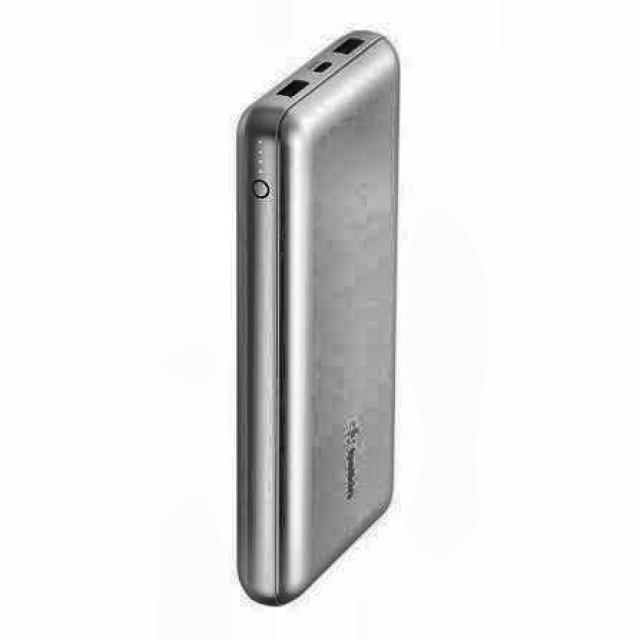Power bank: (238, 31, 398, 603)
